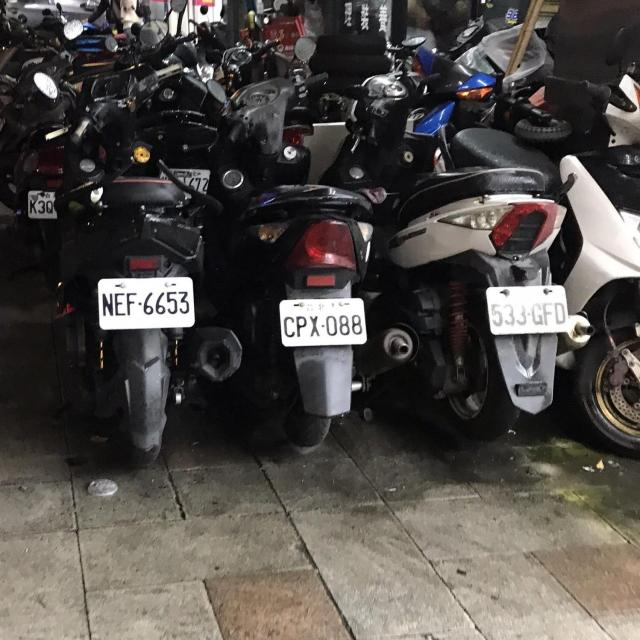W: (93, 272, 199, 332), (274, 292, 371, 348), (484, 281, 571, 340)
